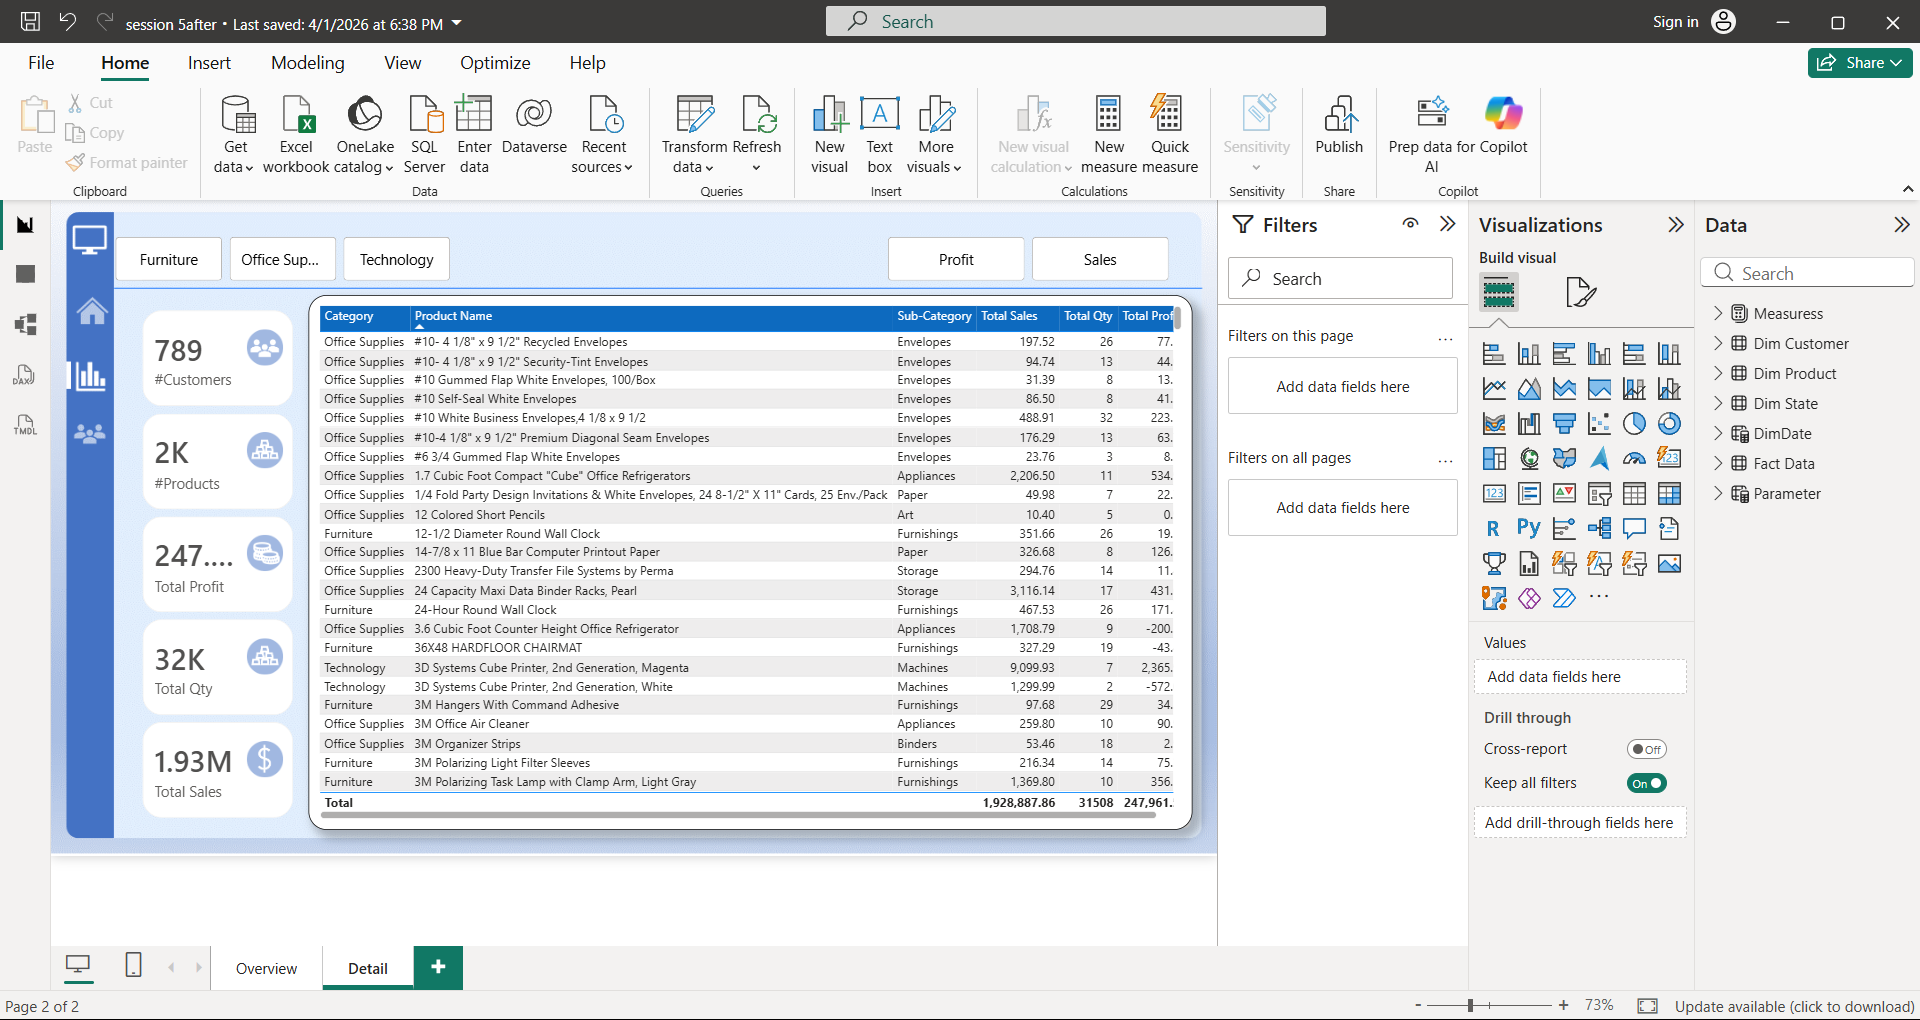

What the dashboard file says about the page in this screenshot:
{"tool":"powerbi","page":{"name":"Detail","canvas":[1280,720],"ordinal":1},"visuals":[{"type":"actionButton","box":[1183.7,40.9,38.9,52.5],"z":0},{"type":"cardVisual","fields":{"Data":["Measuress.#Customers","Measuress.#Products","Measuress.Total Profit","Measuress.Total Qty","Measuress.Total Sales"]},"box":[83.6,104.1,199.4,595.3],"z":1},{"type":"advancedSlicerVisual","fields":{"Values":["Dim Product.Category"]},"box":[66.1,35,377.4,58.4],"z":2},{"type":"advancedSlicerVisual","fields":{"Values":["Parameter.Parameter"]},"box":[913.3,35,319,58.4],"z":3},{"type":"tableEx","fields":{"Values":["Dim Product.Category","Dim Product.Product Name","Dim Product.Sub-Category","Measuress.Total Sales","Measuress.Total Qty","Measuress.Total Profit"]},"box":[283,104.1,970.7,587.5],"z":4}]}

Visuals, with their boxes on the page's 1280x720 design canvas (x1, y1, x2, y2). These are canvas units, not pixel positions in the 1920x1020 screenshot, which may show the page scaled, cropped or inside an application window:
actionButton: locate(1184, 41, 1223, 93)
cardVisual - Measuress.#Customers x Measuress.#Products: locate(84, 104, 283, 699)
advancedSlicerVisual - Dim Product.Category: locate(66, 35, 444, 93)
advancedSlicerVisual - Parameter.Parameter: locate(913, 35, 1232, 93)
tableEx - Dim Product.Category x Dim Product.Product Name: locate(283, 104, 1254, 692)
